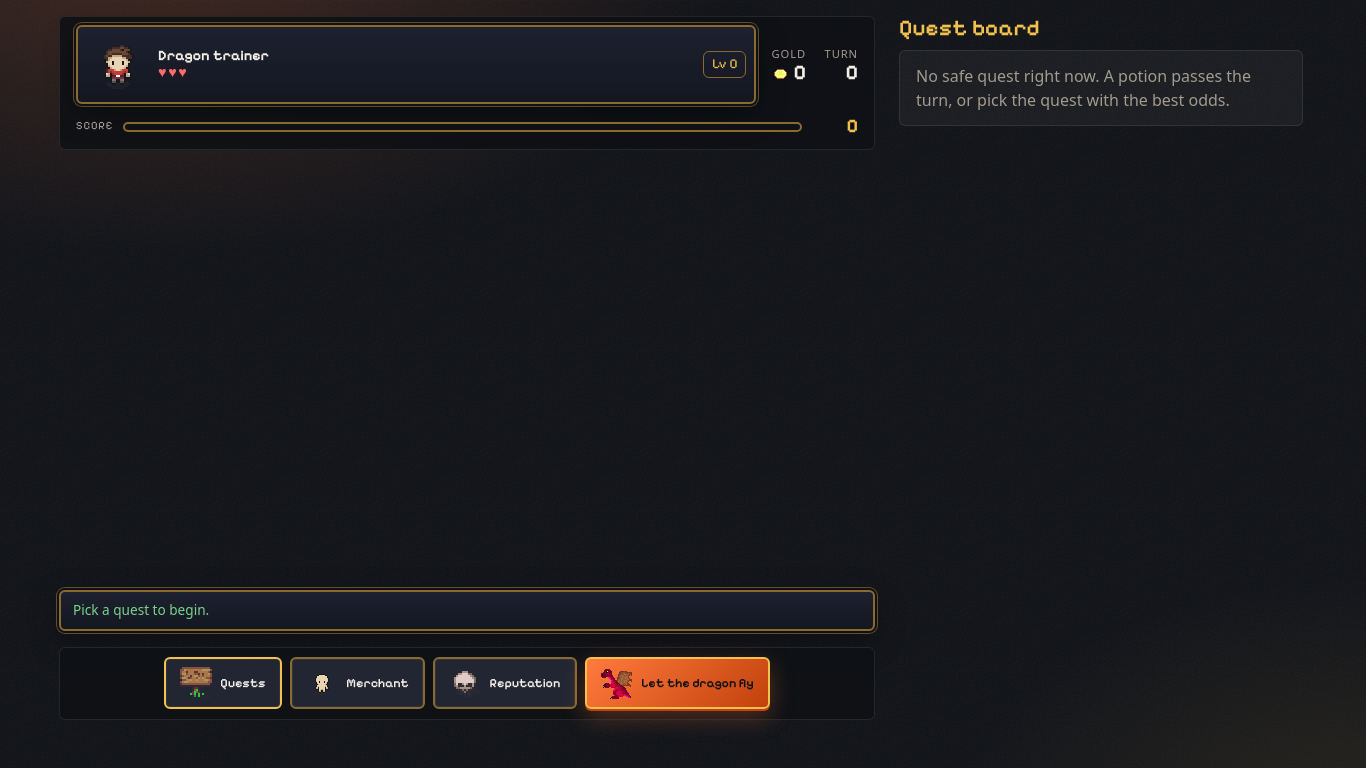
Game › hides the quest board when the quests slot is toggled off
Click the button "Quests".
click(223, 683)  # box [164,657,282,709]
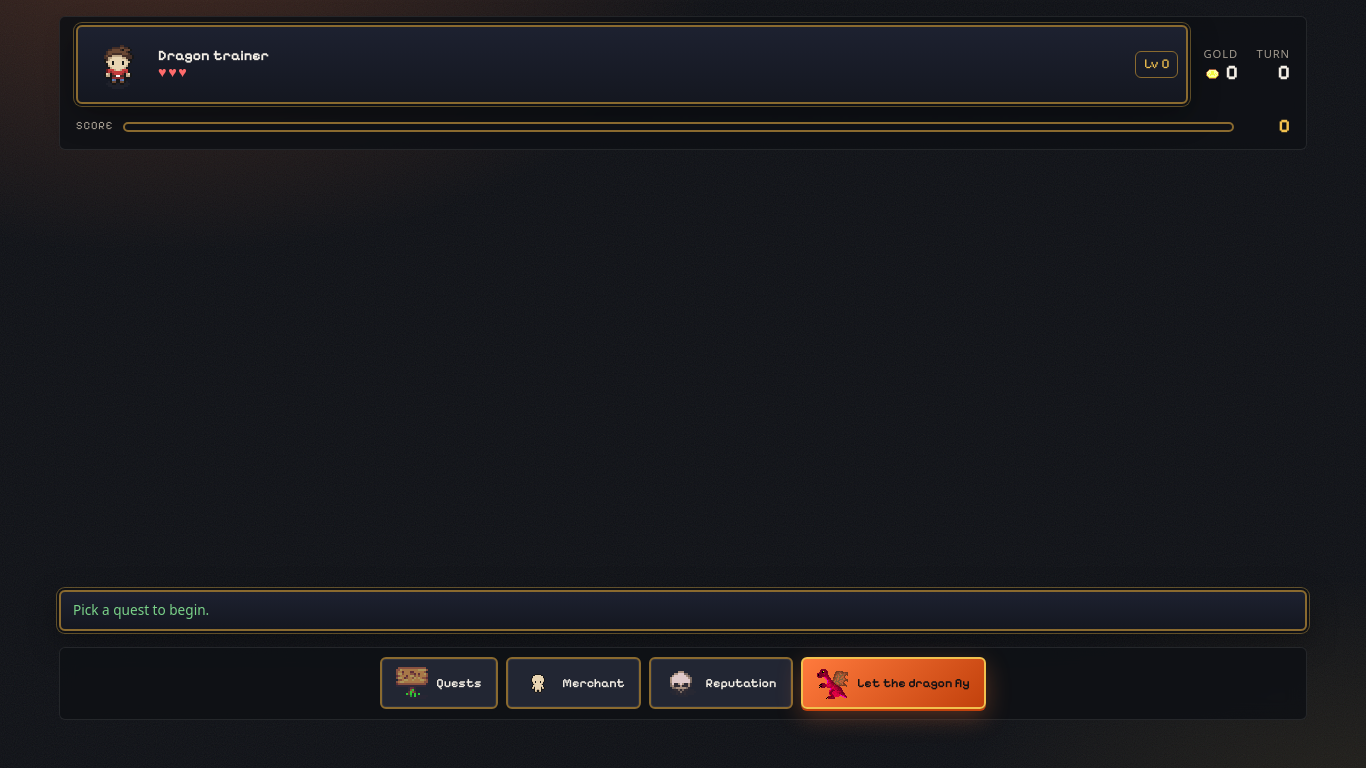
Expected: the heading "Quest board" is gone
